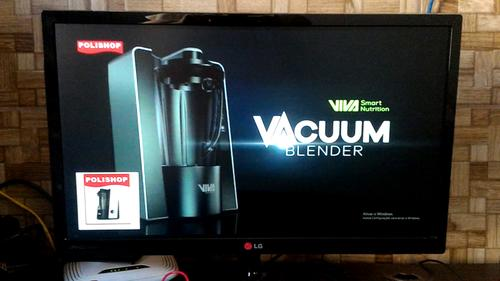Polishop #1: (77, 171, 140, 229)
